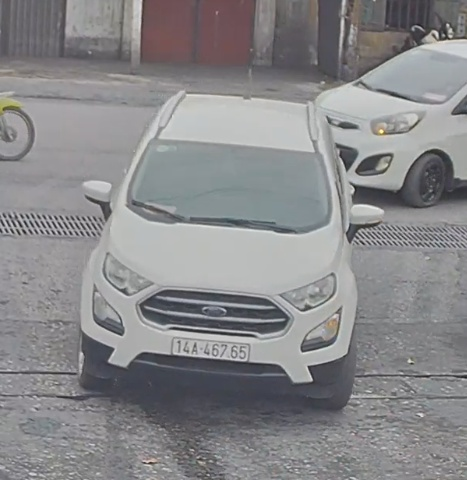vehicle plate: (168, 331, 254, 363)
